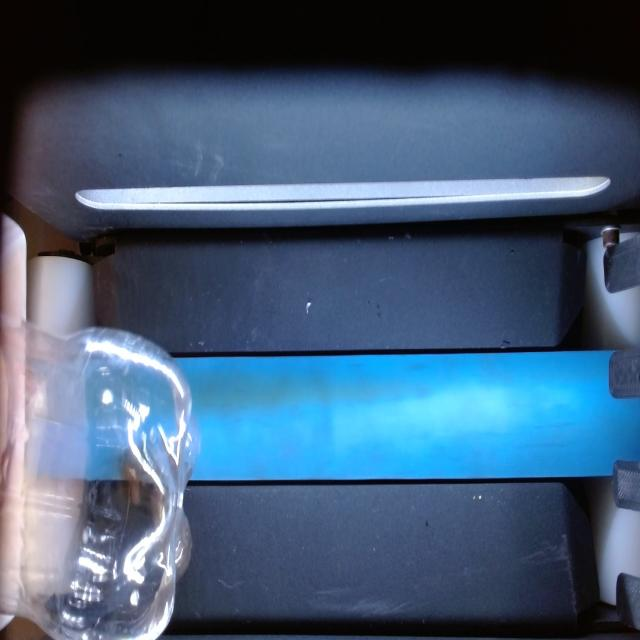bottom: (81, 315, 200, 640)
